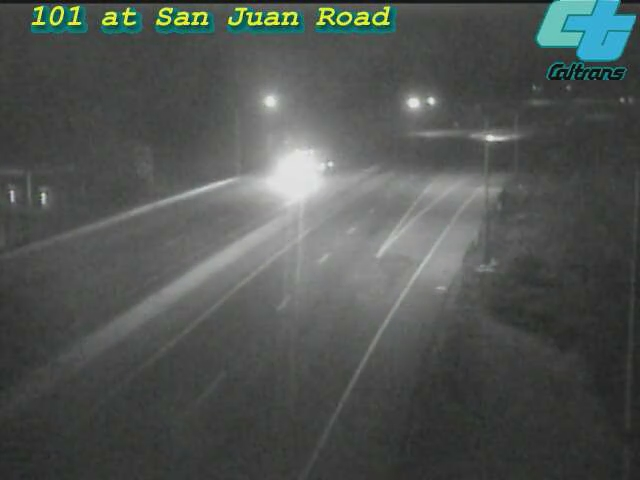vehicle: (271, 127, 351, 207), (460, 115, 510, 165)
